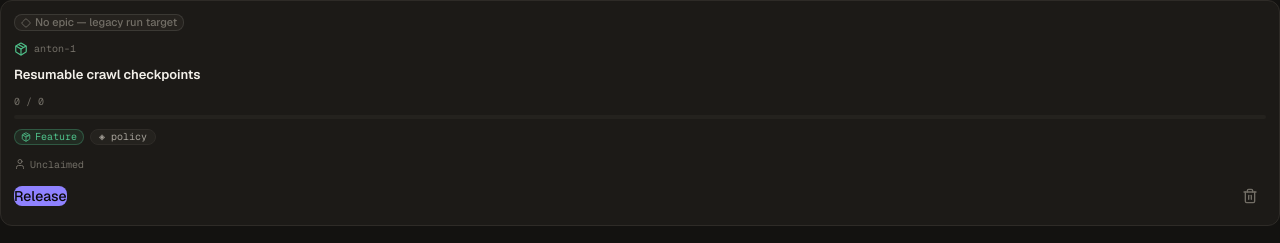
an epic card whose release approved but started nothing › retires it as usual once a release does start a run
Click the button "Release": (40, 196) [14,186,66,206]
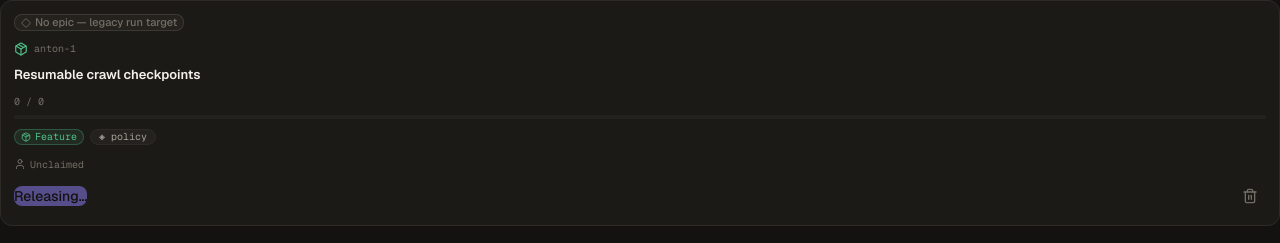
Result: the button "Release" is gone
